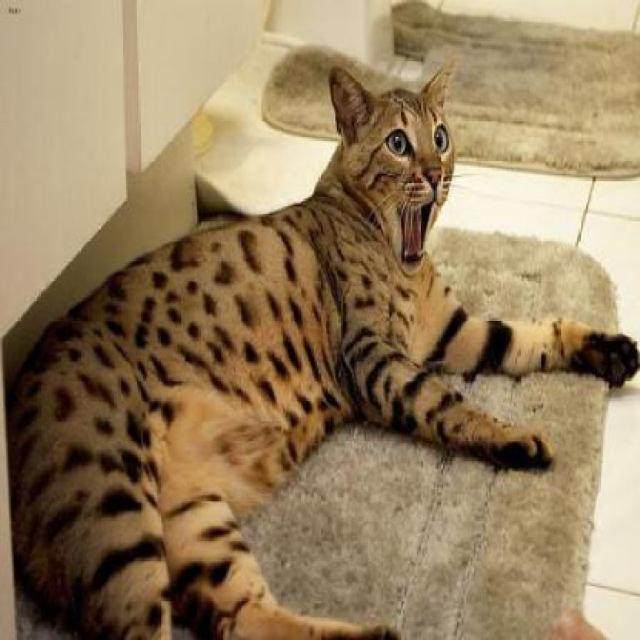cat: (4, 65, 640, 637)
